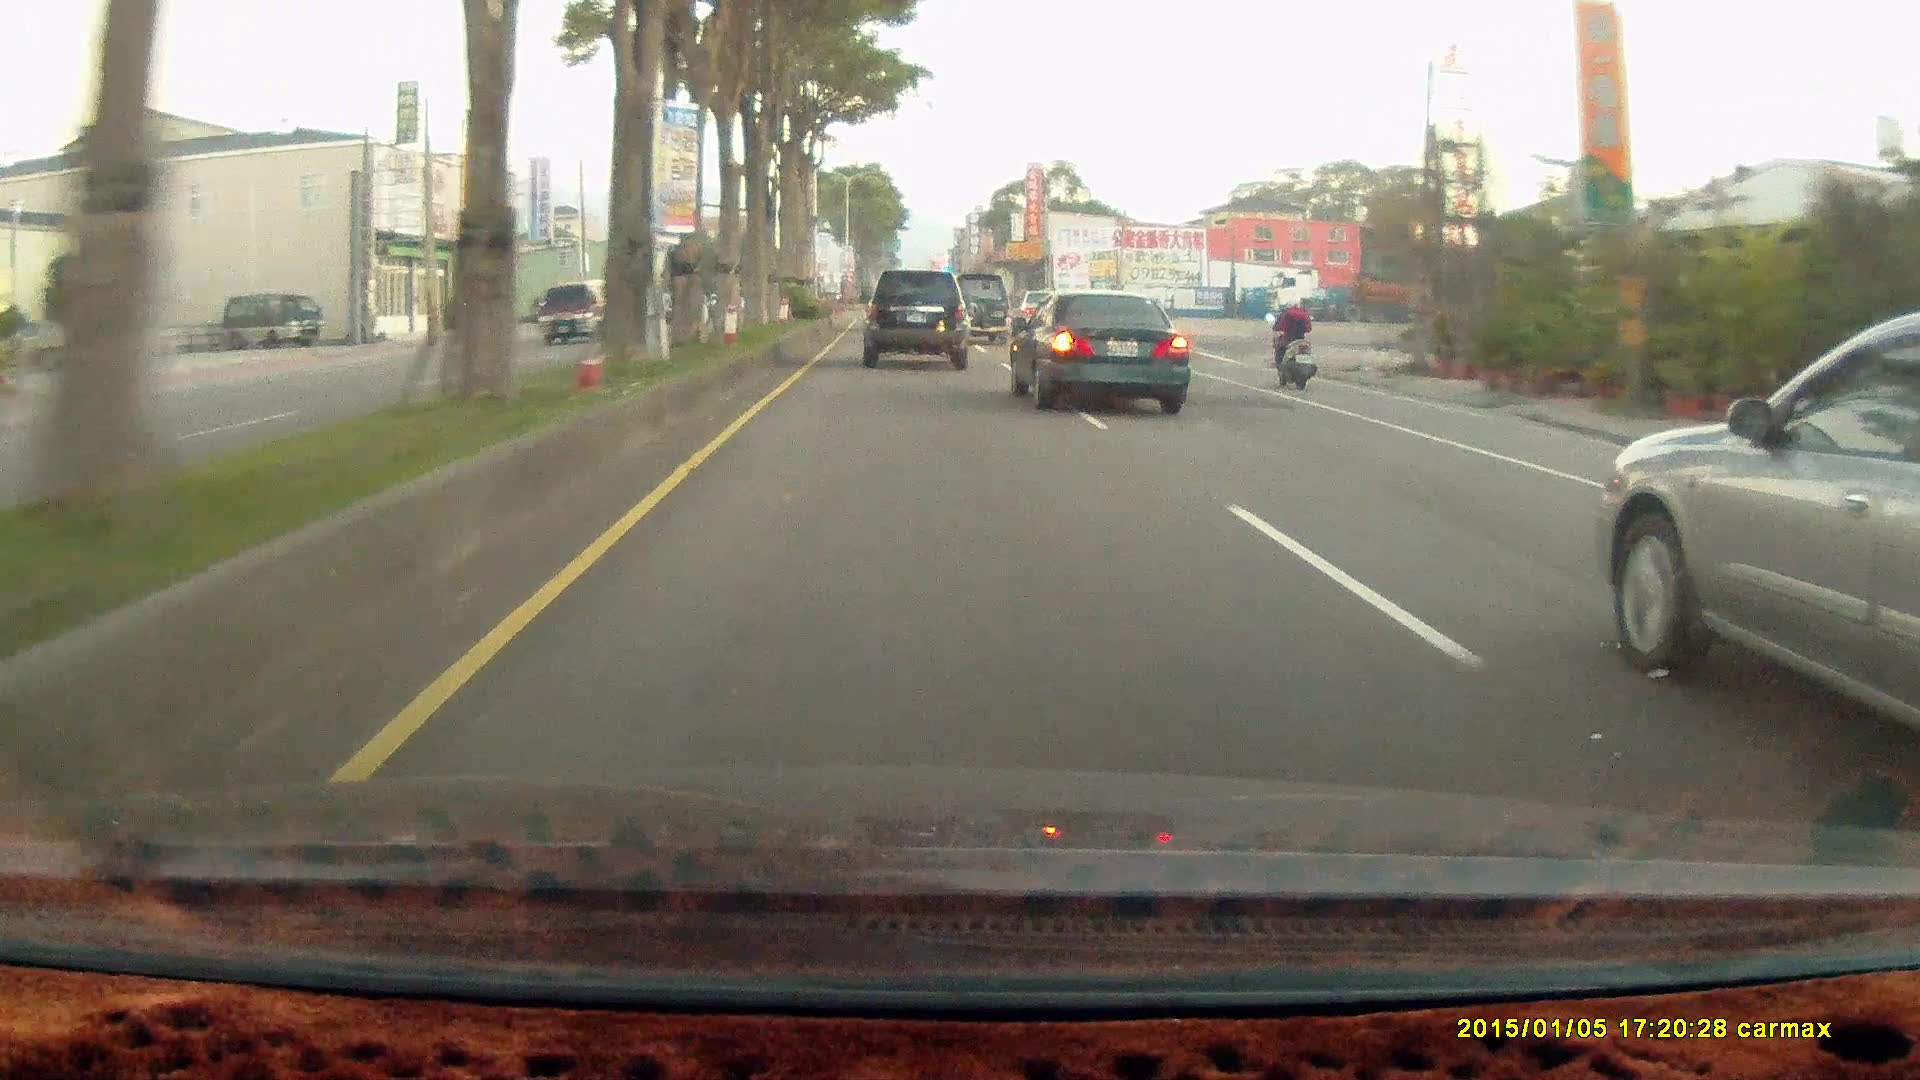rider: (1260, 284, 1327, 398), (1264, 289, 1317, 390)
vehicle: (1591, 304, 1920, 759), (1008, 288, 1194, 412), (1007, 288, 1189, 414), (1271, 265, 1510, 322), (860, 268, 974, 369), (858, 269, 967, 368), (220, 293, 321, 349), (220, 293, 320, 348), (947, 272, 1014, 347), (536, 283, 610, 347)
